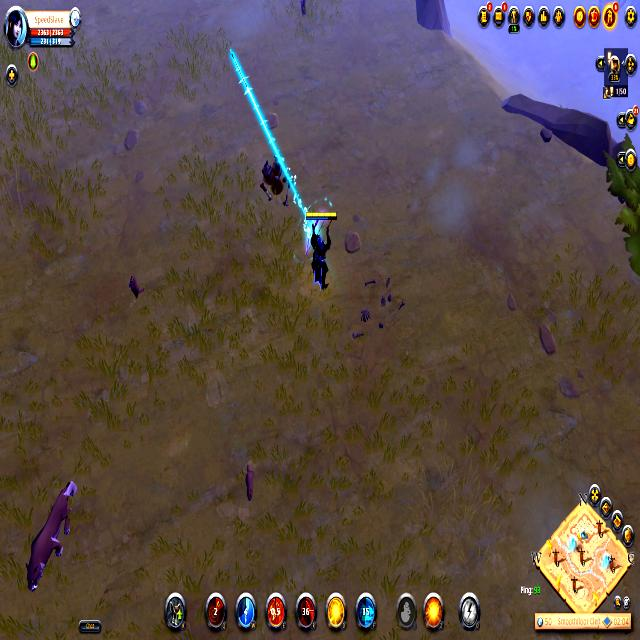ore: (20, 459, 82, 599)
red: (300, 205, 340, 296)
